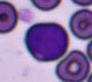L: (24, 22, 69, 62)
